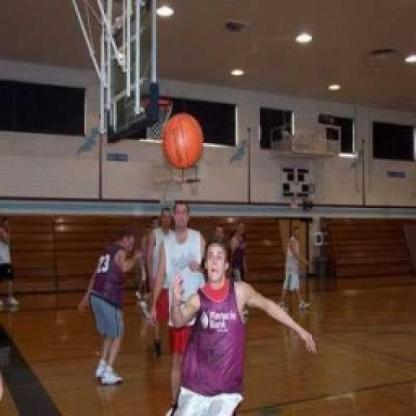basketball: (161, 109, 206, 172)
